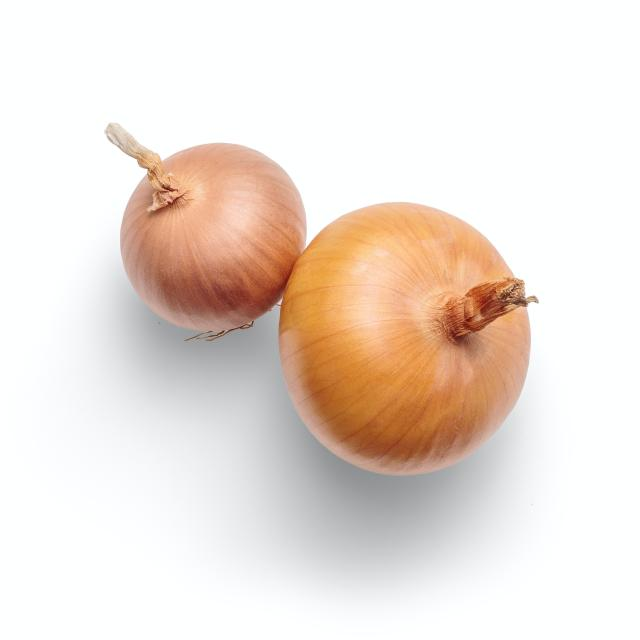Onion: (280, 198, 534, 474), (103, 120, 308, 343)
